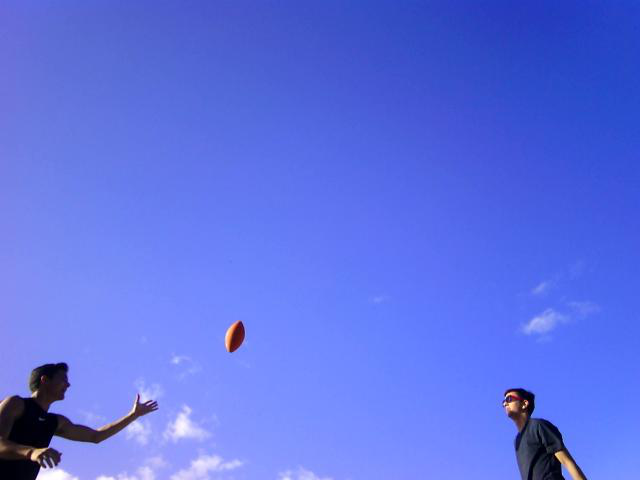football: (221, 317, 248, 356)
